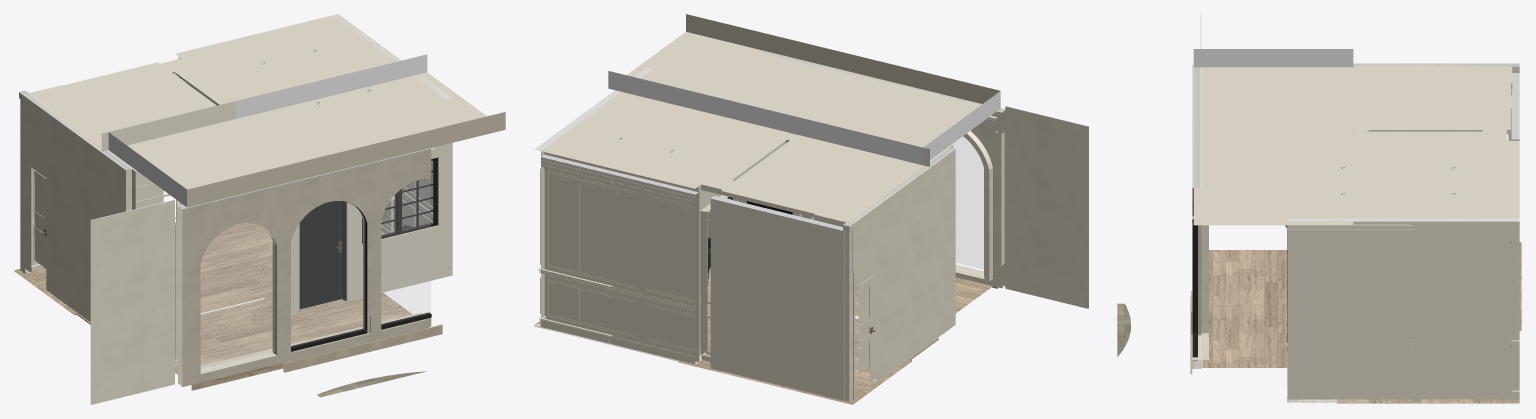
The model's file is office-east-5fcf161ff1e0.glb.
The picture shows the model from 3 angles, left to right: view 1: azimuth 30°, elevation 25°; view 2: azimuth 150°, elevation 25°; view 3: azimuth 270°, elevation 25°; orthographic projection. The views are drawn at different scales.
Visible parts, largest first — view 1: office-east-look-dbd60ee5c3733ed6, office-east-look-c9e78b9ec1bb39cd, office-east-look-d5a4a1b5d3594c04, office-east-look-6a051330000fbca1, office-east-look-2575515a05775d9e, office-east-2575515a05775d9e, office-east-look-38561c12898e4d43, office-east-look-c02a36d0521470a9, office-east-look-c374268555806af8, office-east-7dc307bfa7ee071d, office-east-look-5cbcc744e6f960f3, office-east-dbd60ee5c3733ed6 (+17 smaller); view 2: office-east-look-dbd60ee5c3733ed6, office-east-look-19647d6da46c2b80, office-east-19647d6da46c2b80, office-east-look-6a051330000fbca1, office-east-look-d5a4a1b5d3594c04, office-east-2575515a05775d9e, office-east-look-2575515a05775d9e, office-east-look-38561c12898e4d43, office-east-7b11e78295c2e11d, office-east-look-c9e78b9ec1bb39cd, office-east-look-0d8abb8bf9b53894, office-east-dbd60ee5c3733ed6 (+17 smaller); view 3: office-east-6a1144f4e43410bb, office-east-look-dbd60ee5c3733ed6, office-east-2575515a05775d9e, office-east-look-2575515a05775d9e, office-east-look-c374268555806af8, office-east-dbd60ee5c3733ed6, office-east-7dc307bfa7ee071d, office-east-look-c9e78b9ec1bb39cd, office-east-look-0d8abb8bf9b53894, office-east-19647d6da46c2b80, office-east-07b6babc03834d5e, office-east-0e637d2be41161fb (+17 smaller).
Boxes of the visible parts, left/top/right/bottom form: office-east-look-dbd60ee5c3733ed6: left=108, top=54, right=505, bottom=207; office-east-look-c9e78b9ec1bb39cd: left=178, top=148, right=431, bottom=386; office-east-look-d5a4a1b5d3594c04: left=90, top=199, right=174, bottom=404; office-east-look-6a051330000fbca1: left=19, top=90, right=136, bottom=321; office-east-look-2575515a05775d9e: left=24, top=62, right=235, bottom=151; office-east-2575515a05775d9e: left=175, top=14, right=420, bottom=113; office-east-look-38561c12898e4d43: left=201, top=223, right=275, bottom=369; office-east-look-c02a36d0521470a9: left=291, top=201, right=364, bottom=346; office-east-look-c374268555806af8: left=175, top=292, right=429, bottom=390; office-east-7dc307bfa7ee071d: left=293, top=97, right=445, bottom=313; office-east-look-5cbcc744e6f960f3: left=381, top=179, right=430, bottom=324; office-east-dbd60ee5c3733ed6: left=257, top=74, right=447, bottom=137; office-east-look-dbd60ee5c3733ed6: left=608, top=14, right=1000, bottom=165; office-east-look-19647d6da46c2b80: left=710, top=195, right=842, bottom=400; office-east-19647d6da46c2b80: left=541, top=154, right=699, bottom=364; office-east-look-6a051330000fbca1: left=843, top=144, right=955, bottom=401; office-east-look-d5a4a1b5d3594c04: left=1005, top=106, right=1088, bottom=308; office-east-2575515a05775d9e: left=541, top=92, right=771, bottom=188; office-east-look-2575515a05775d9e: left=721, top=135, right=929, bottom=222; office-east-look-38561c12898e4d43: left=952, top=137, right=983, bottom=269; office-east-7b11e78295c2e11d: left=692, top=110, right=808, bottom=361; office-east-look-c9e78b9ec1bb39cd: left=756, top=50, right=1005, bottom=288; office-east-look-0d8abb8bf9b53894: left=701, top=129, right=951, bottom=226; office-east-dbd60ee5c3733ed6: left=615, top=67, right=807, bottom=129; office-east-6a1144f4e43410bb: left=1287, top=218, right=1519, bottom=402; office-east-look-dbd60ee5c3733ed6: left=1193, top=49, right=1353, bottom=225; office-east-2575515a05775d9e: left=1353, top=141, right=1519, bottom=221; office-east-look-2575515a05775d9e: left=1353, top=63, right=1510, bottom=129; office-east-look-c374268555806af8: left=1192, top=250, right=1287, bottom=367; office-east-dbd60ee5c3733ed6: left=1287, top=141, right=1353, bottom=221; office-east-7dc307bfa7ee071d: left=1287, top=144, right=1295, bottom=399; office-east-look-c9e78b9ec1bb39cd: left=1192, top=64, right=1201, bottom=368; office-east-look-0d8abb8bf9b53894: left=1353, top=67, right=1512, bottom=140; office-east-19647d6da46c2b80: left=1511, top=224, right=1519, bottom=390; office-east-07b6babc03834d5e: left=1295, top=394, right=1511, bottom=399; office-east-0e637d2be41161fb: left=1414, top=221, right=1420, bottom=401.
Bounding box in the file's own units: 7.25 × 3.46 × 6.07.
25 materials, 6 textured.
